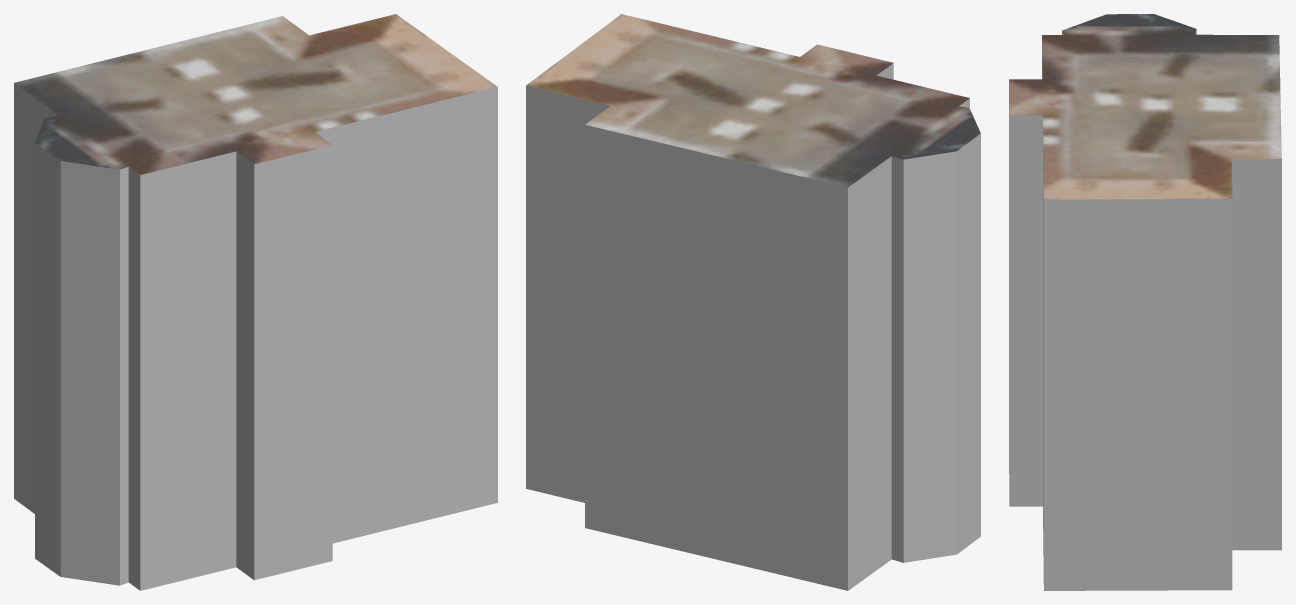
Rendered from DEBW_0010007Txgo.gltf.
3 views of the same model, side by side, from view 1: azimuth 30°, elevation 25°; view 2: azimuth 150°, elevation 25°; view 3: azimuth 270°, elevation 25° (orthographic). The views are drawn at different scales.
Parts seen in each view (by area): view 1: Z_UP; view 2: Z_UP; view 3: Z_UP.
Part boxes in pixels (x1=…): Z_UP: x1=14, y1=14, x2=497, y2=590; Z_UP: x1=526, y1=14, x2=980, y2=590; Z_UP: x1=1009, y1=14, x2=1281, y2=590.
Size of the model in its own units: 17.06 by 16.77 by 10.59.
Materials: 2 (1 with a texture image).
